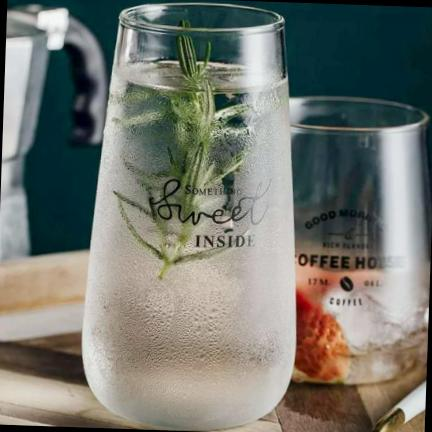container: (82, 3, 295, 428), (290, 97, 432, 384)
fluid: (82, 70, 297, 430)
fluid-surface: (115, 60, 285, 93)
